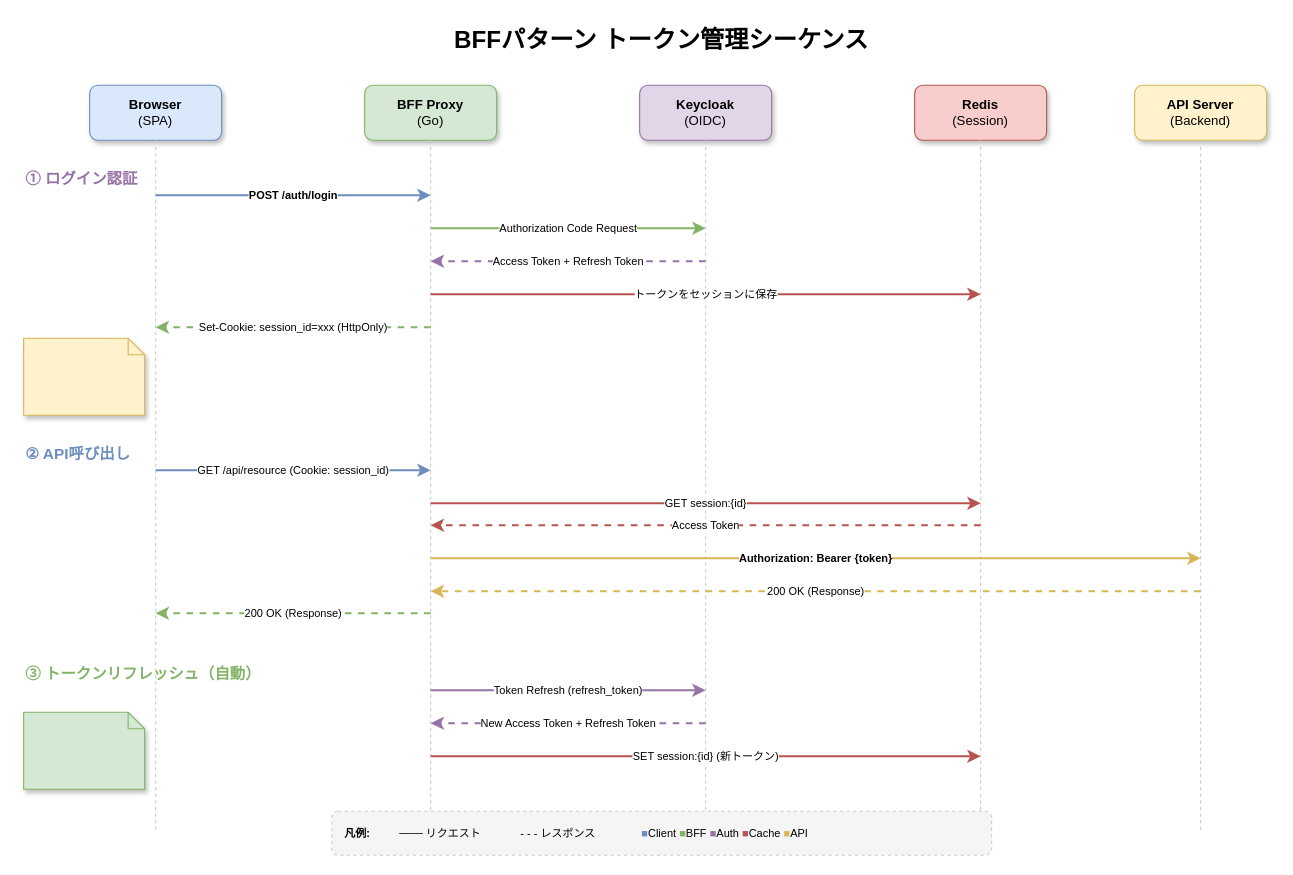
Some shapes in this 1293 by 875 pixel diagram are drawn without their labels. Here are the shapes that lost their labels. From the top down, the centre of each, then its label:
pixel 84 378: 重要: ブラウザにはトークンを 一切渡さない（セッションIDのみ）
pixel 84 752: ポイント: リフレッシュは BFF内部で自動実行 ブラウザ側は変更不要
